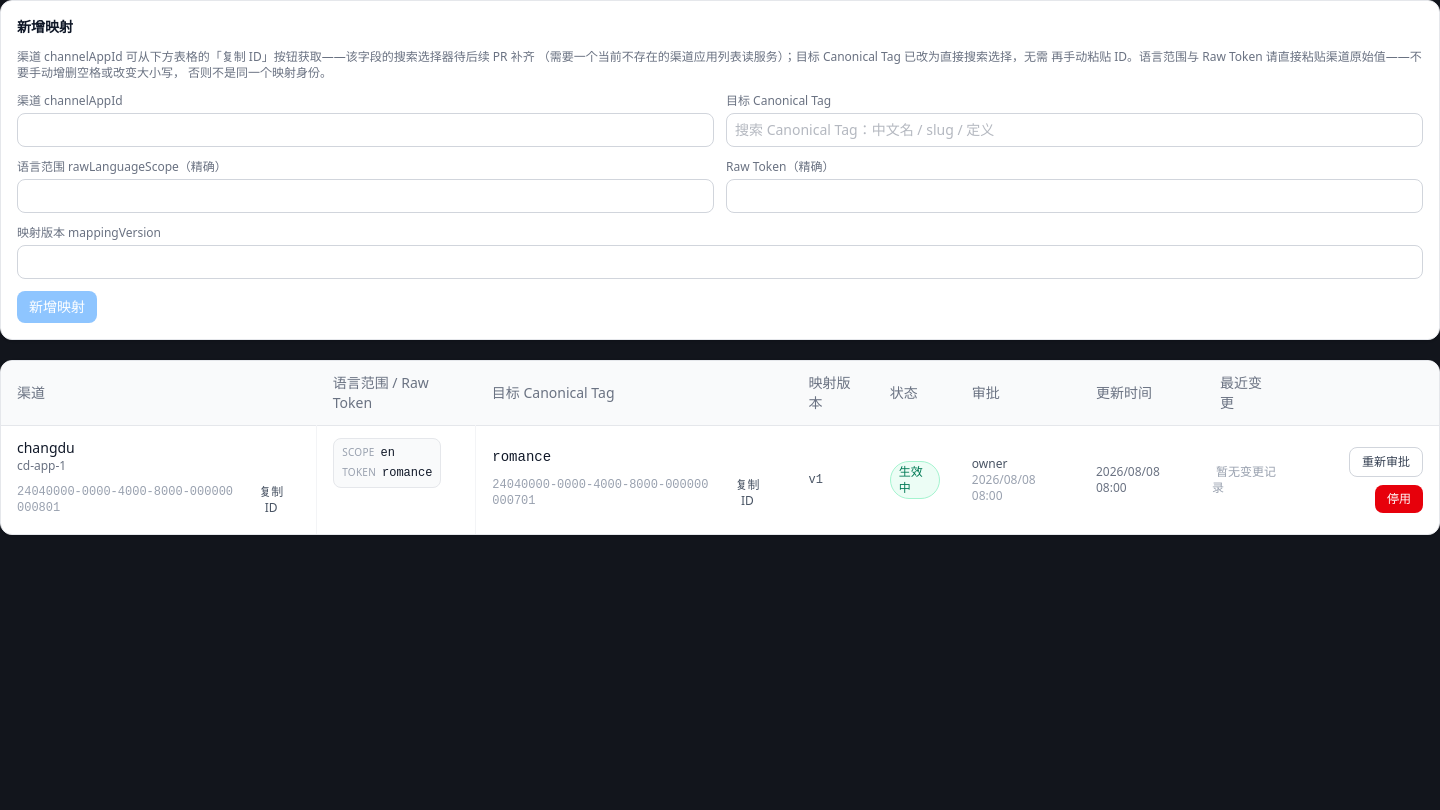
MappingsClient · 能力位驱动的可见性与失败文案 › 能力被拒时后端返回 admin_capability_denied：文案点名能力位，且与 2FA 文案不同
The image size is (1440, 810).
What coordinates should you click on to do the following:
click the button "停用"
I would click on:
 (1399, 499)
Its box is [1375,485,1423,513].
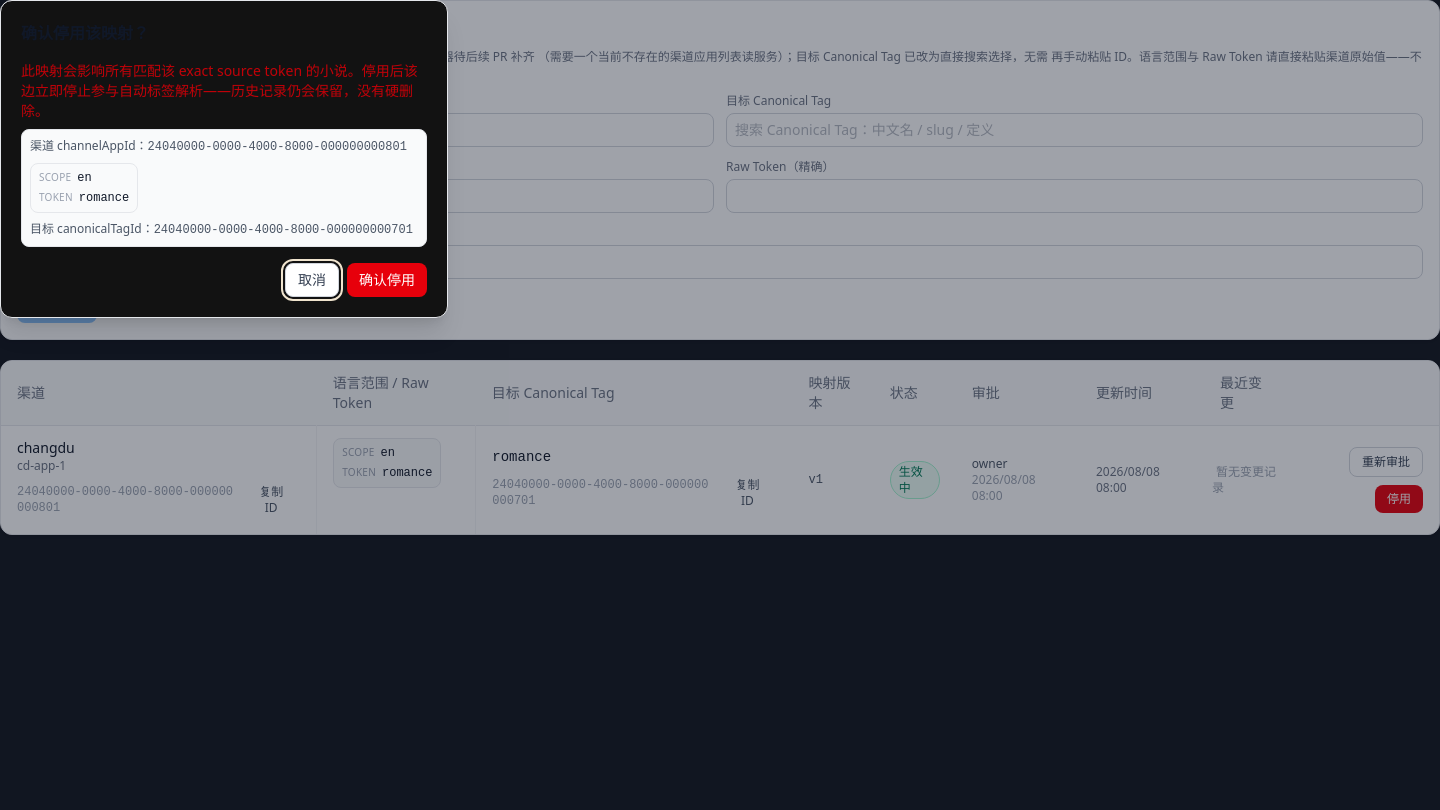
What coordinates should you click on to do the following:
click the button "确认停用"
I would click on:
 (387, 280)
Its box is [347,263,427,297].
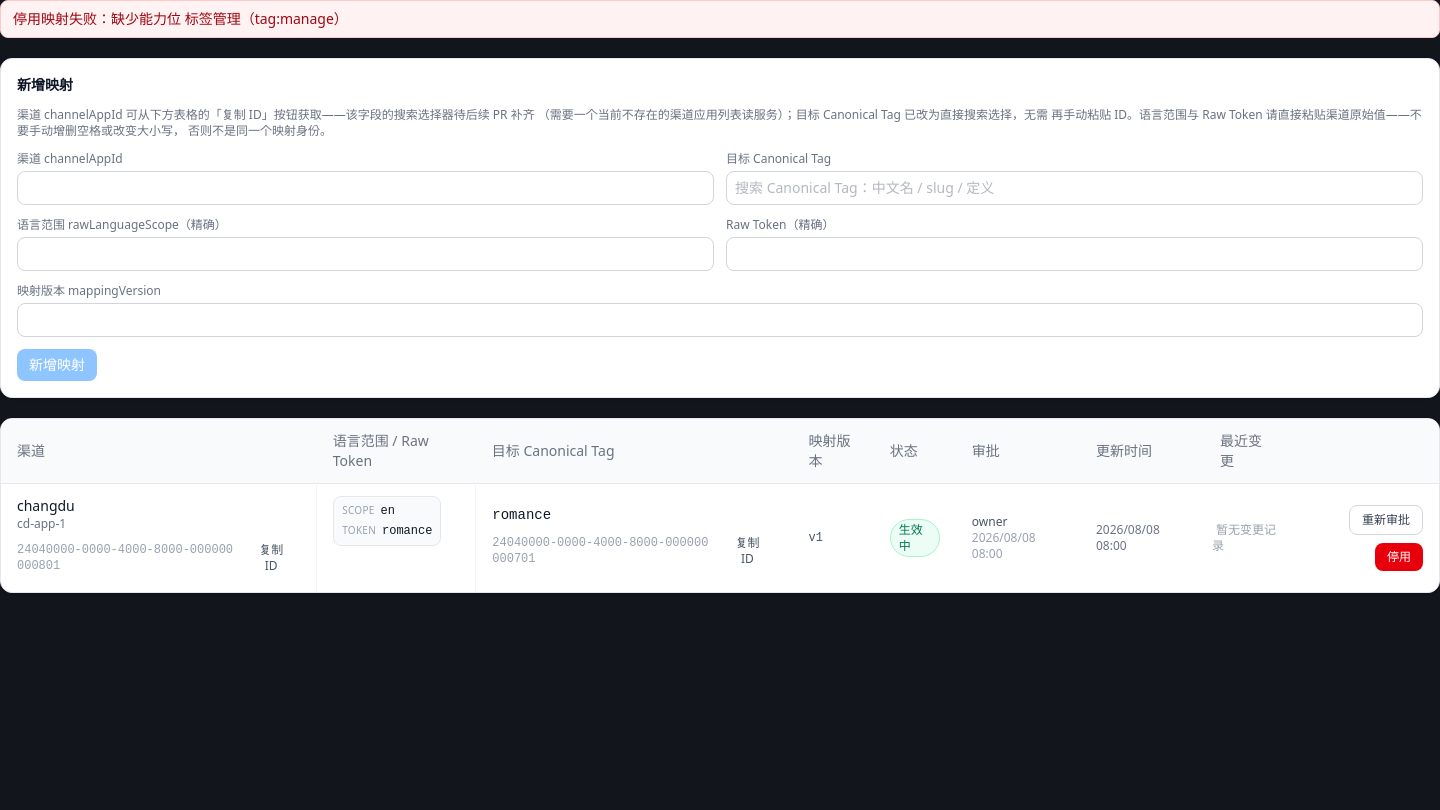
Result: the message shows "缺少能力位 标签管理（tag:manage）" at [13,9,348,28]
